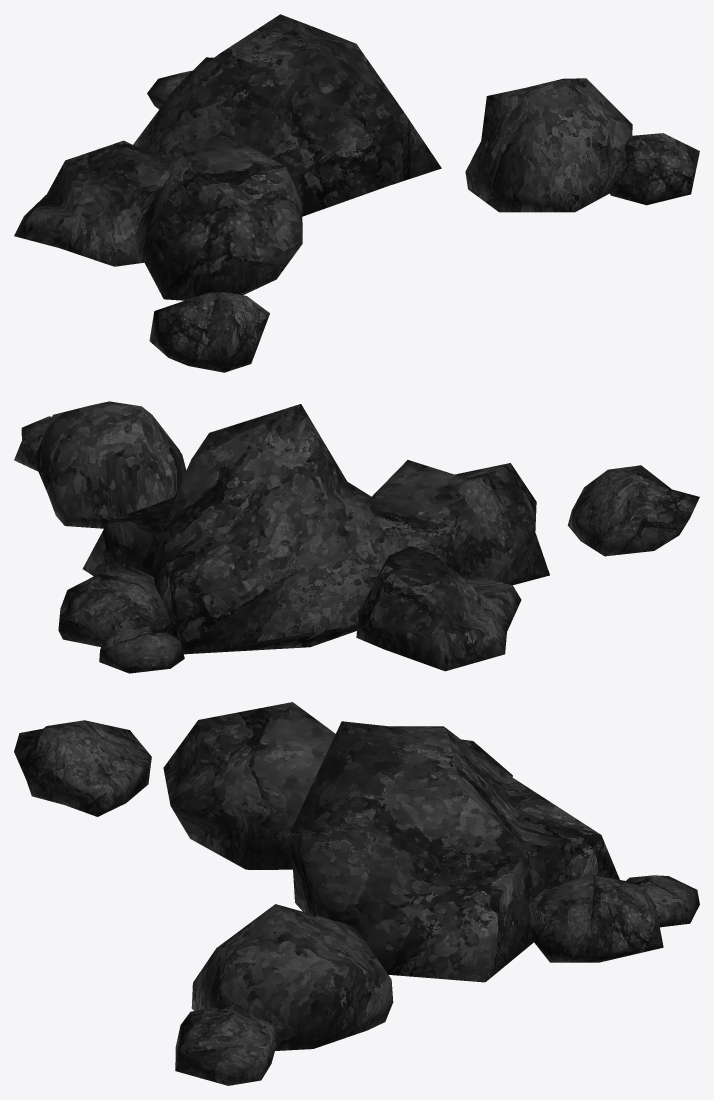
The model's file is shi7.FBX.
The picture shows the model from 3 angles, top to bottom: view 1: azimuth 30°, elevation 25°; view 2: azimuth 150°, elevation 25°; view 3: azimuth 270°, elevation 25°; orthographic projection. The views are drawn at different scales.
Parts seen in each view (by area): view 1: stone_012_02; view 2: stone_012_02; view 3: stone_012_02.
Part boxes in pixels (x1,y1,x2,y2): stone_012_02: [14, 14, 699, 372]; stone_012_02: [14, 401, 699, 673]; stone_012_02: [14, 702, 699, 1085].
Size of the model in its own units: 164 by 49.31 by 144.
